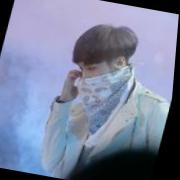WRONG: (74, 52, 122, 99)
